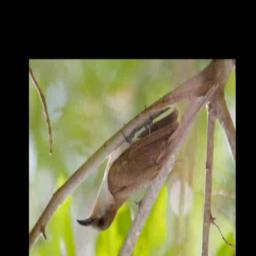Cuckoo: (74, 106, 179, 232)
